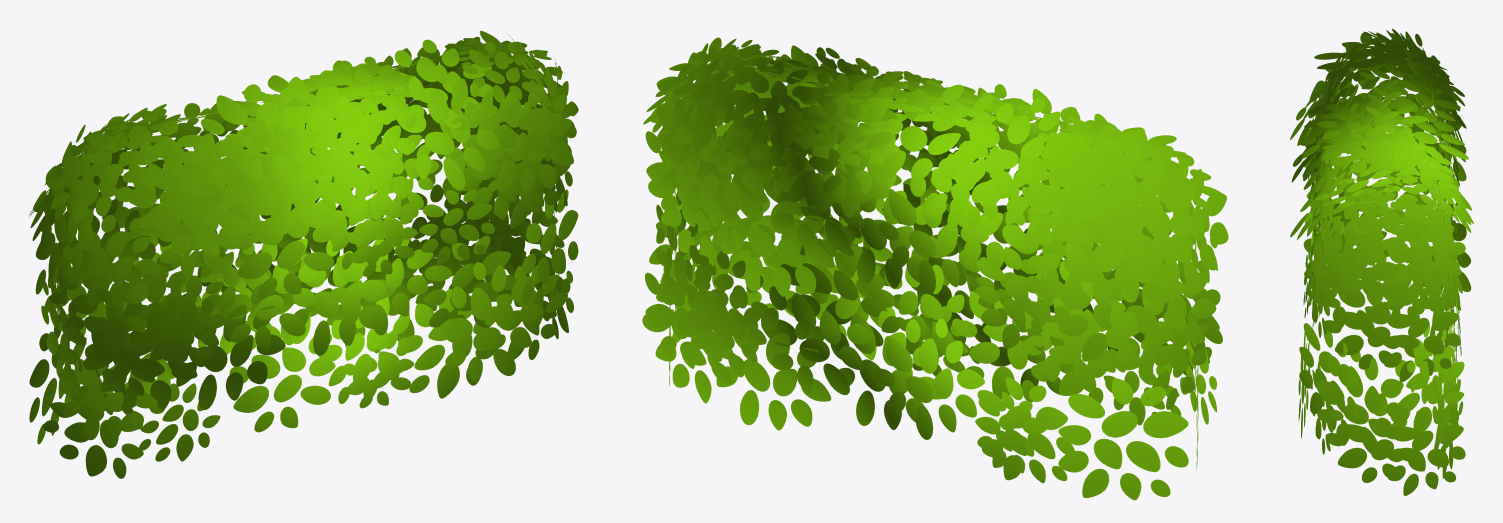
File: Bush_Large.gltf
3 renders of one model, left to right at view 1: azimuth 30°, elevation 25°; view 2: azimuth 150°, elevation 25°; view 3: azimuth 270°, elevation 25°, orthographic. The views are drawn at different scales.
Visible parts, largest first — view 1: Bush_Large; view 2: Bush_Large; view 3: Bush_Large.
Boxes of the visible parts, x1=… form: Bush_Large: x1=29, y1=31, x2=578, y2=478; Bush_Large: x1=642, y1=37, x2=1228, y2=500; Bush_Large: x1=1290, y1=28, x2=1473, y2=495.
Bounding box in the file's own units: 1.9 × 1.22 × 0.7238.
Materials: 1 (1 with a texture image).
